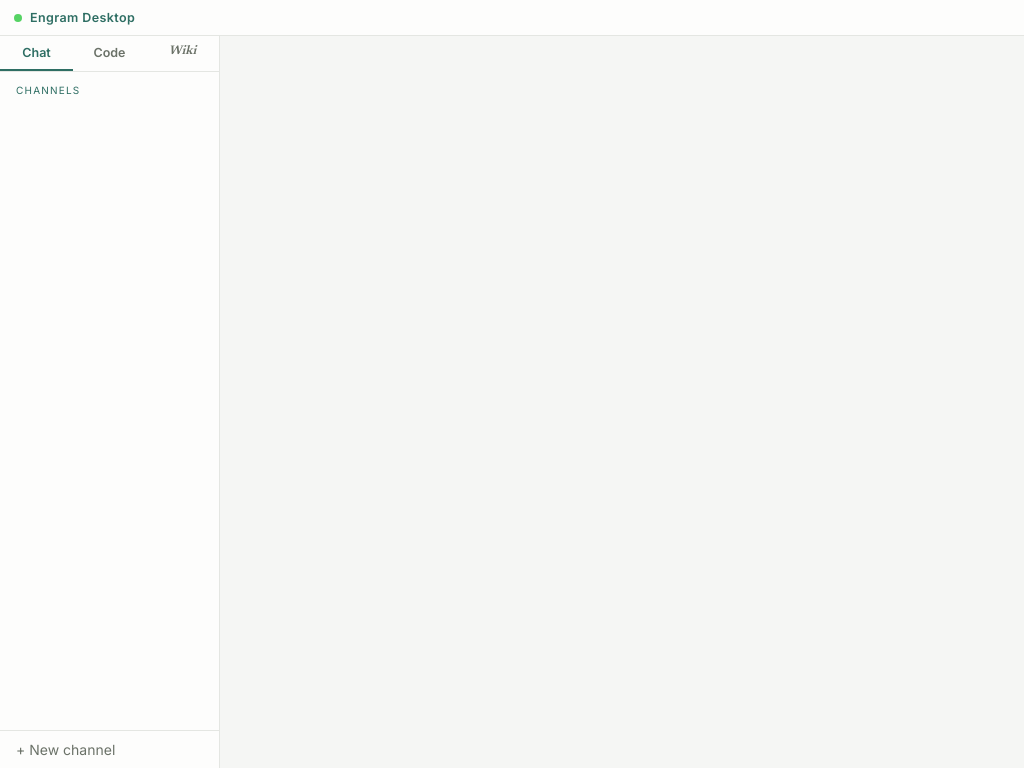
Test: 자유 분할 › 분할하면 두 칸이 동시에 렌더된다
This screenshot has width=1024, height=768.
What coordinates should you click on to do the following:
click the text "Code"
I would click on:
 (110, 52)
Its box is [94,45,126,60].
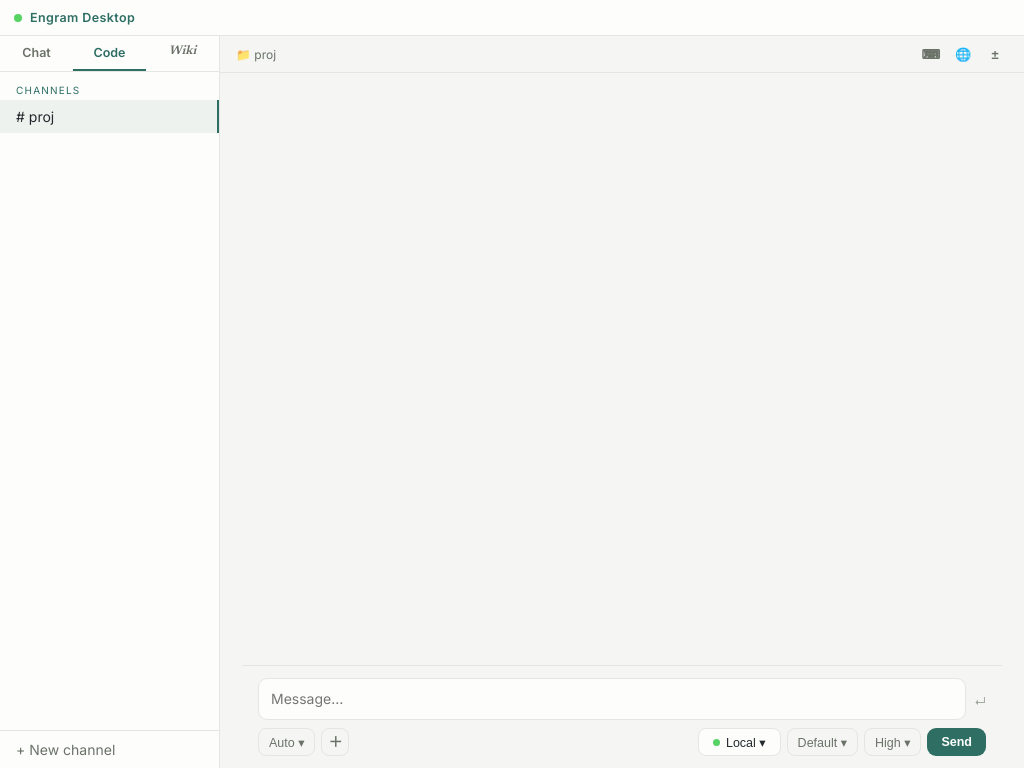
expect the element titled "C:/repo/proj" is shown: met, box [220,36,1023,73]
What coordinates should you click on to do the following:
click the button with class "codeIconBtn" showing "⌨"
I would click on:
 (931, 54)
Its box is [918,42,944,66].
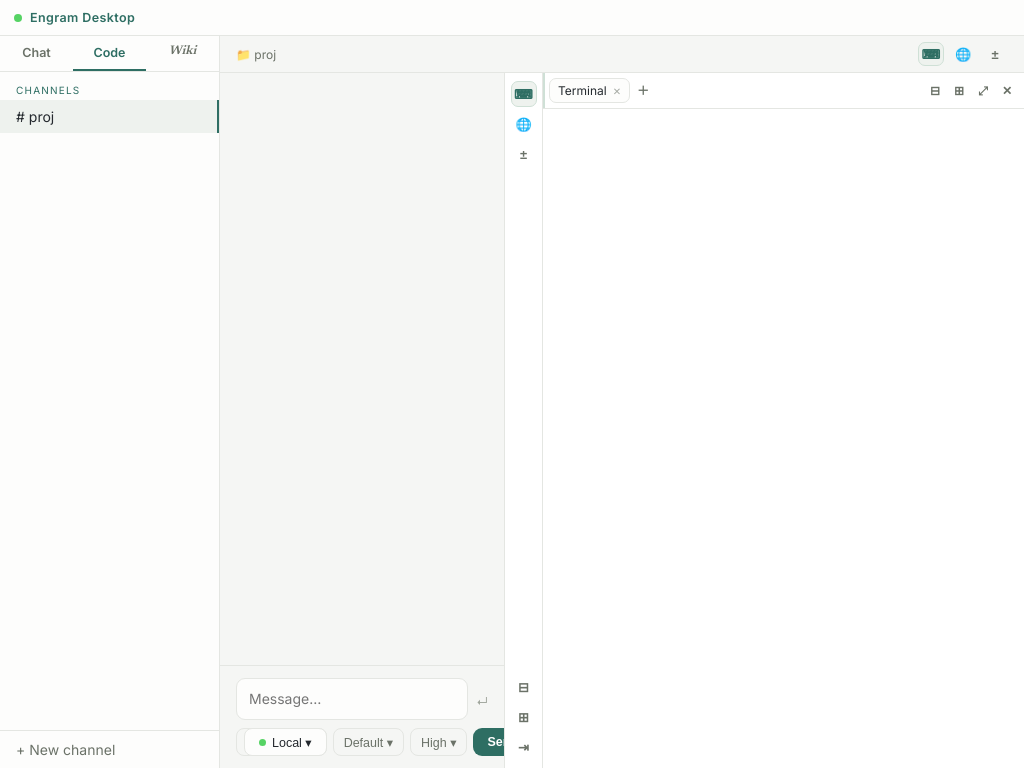
What coordinates should you click on to do the following:
click the button with class "codeIconBtn" in the row of "📁 proj"
I would click on:
 (963, 54)
Its box is [950,42,976,66].
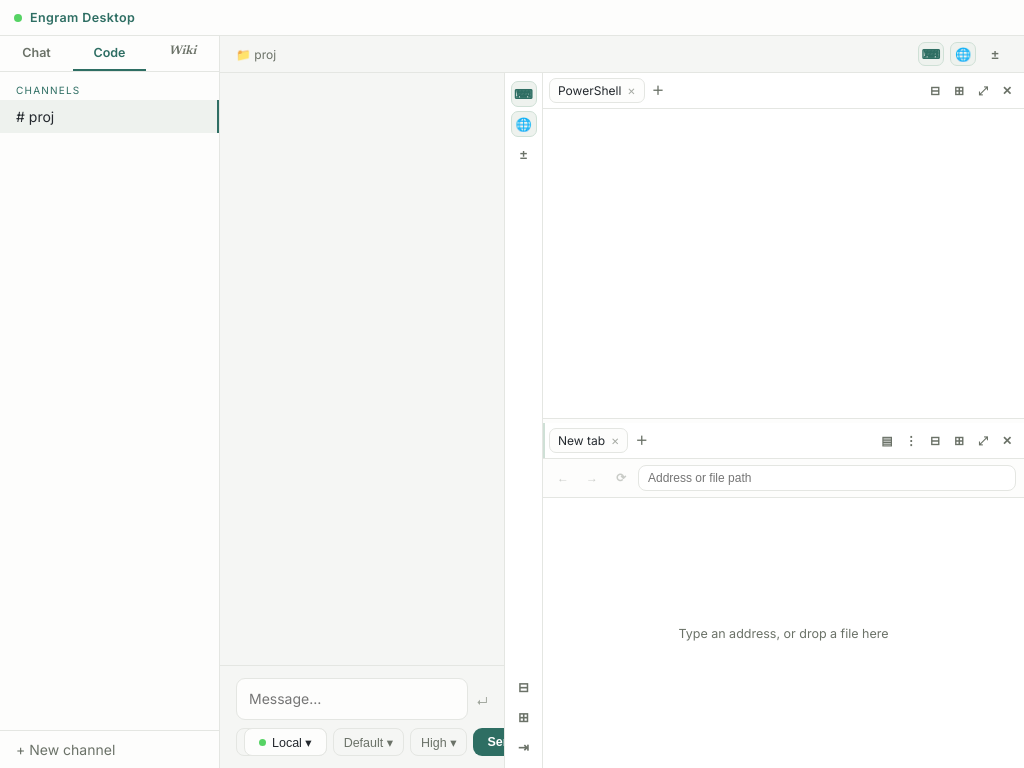
expect the element with class "codeTerm" is shown: met, box [543,109,1023,418]
expect the element with class "dockBrowser" is shown: met, box [543,459,1023,767]
expect the element with class "dockSplit" is shown: met, box [543,73,1023,767]
